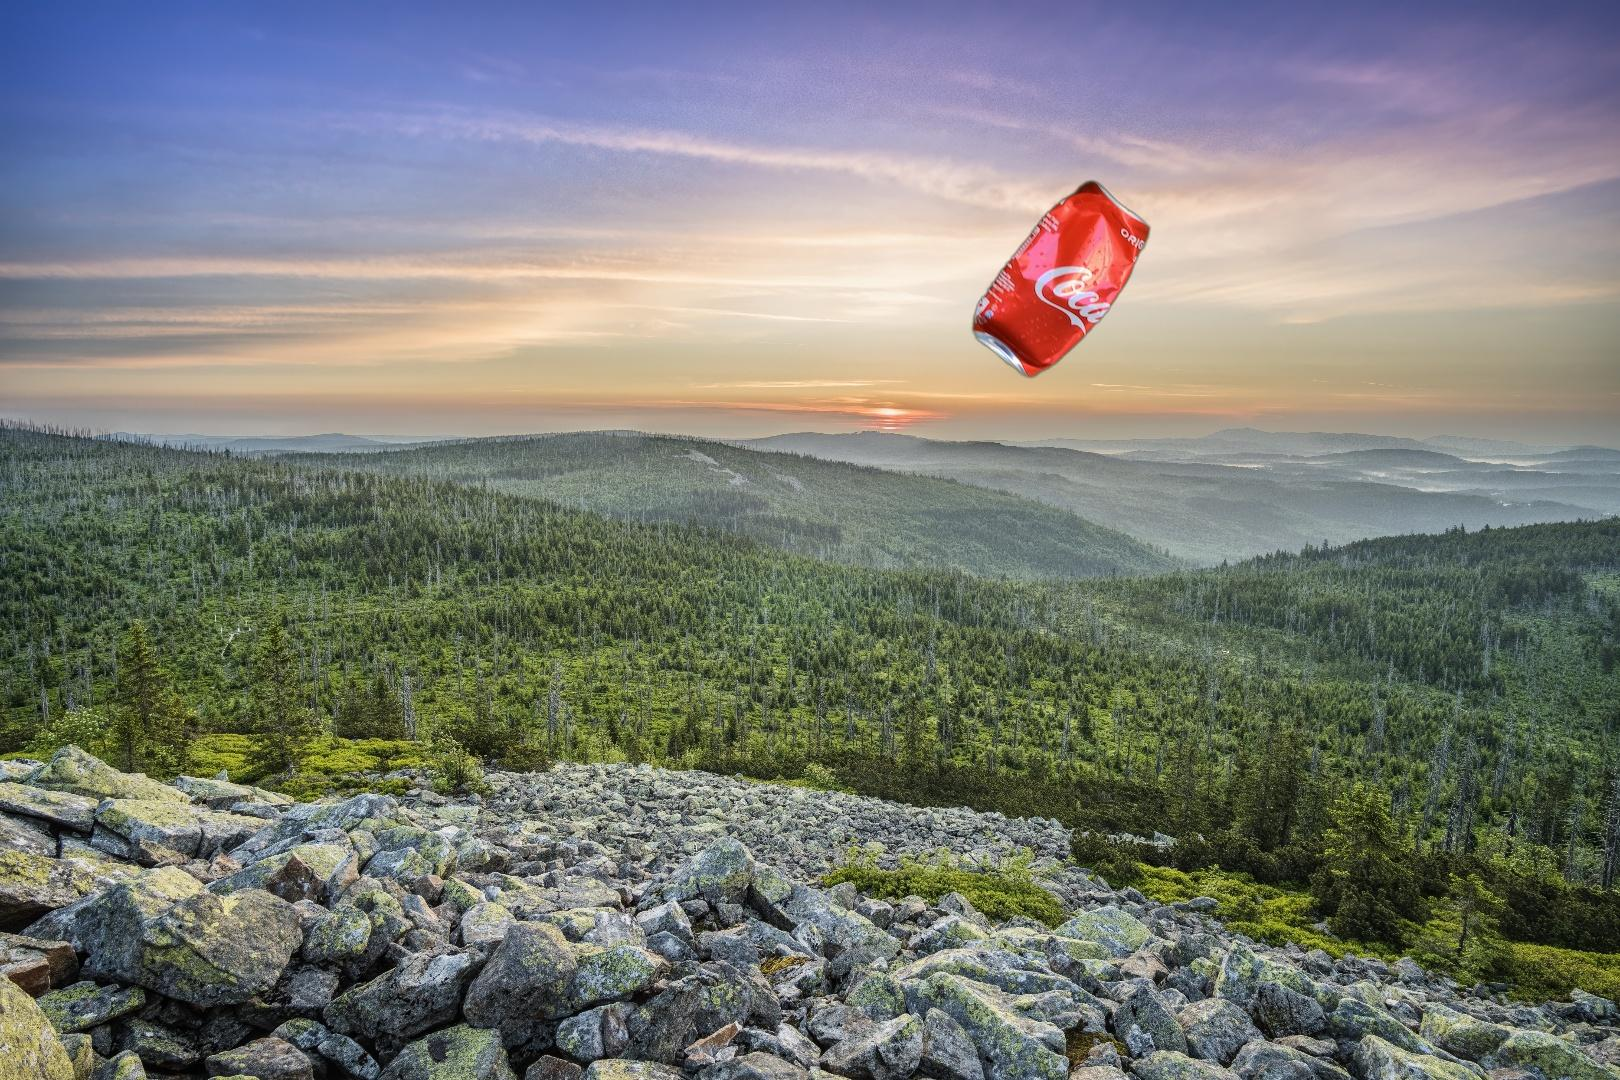metal-cans: (968, 175, 1154, 382)
